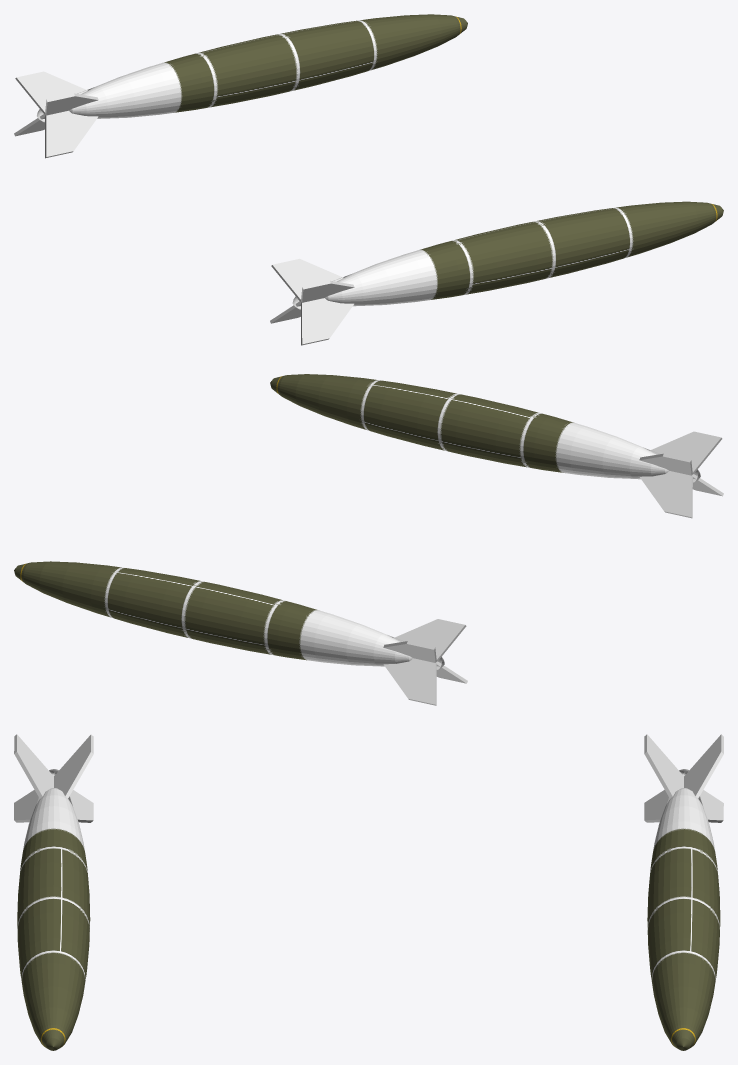
Rendered from rafalegbu3123.glb.
3 renders of one model, top to bottom at view 1: azimuth 30°, elevation 25°; view 2: azimuth 150°, elevation 25°; view 3: azimuth 270°, elevation 25°, orthographic. The views are drawn at different scales.
Visible parts, largest first — view 1: 立方体.005, 立方体.006; view 2: 立方体.005, 立方体.006; view 3: 立方体.005, 立方体.006.
Part boxes in pixels (x1,y1,x2,y2): 立方体.005: [14, 14, 467, 158]; 立方体.006: [270, 201, 723, 345]; 立方体.005: [14, 561, 467, 705]; 立方体.006: [270, 374, 723, 518]; 立方体.005: [644, 734, 723, 1050]; 立方体.006: [14, 734, 93, 1050].
Size of the model in its own units: 3.81 by 0.5236 by 4.34.
Materials: 1 (1 with a texture image).
